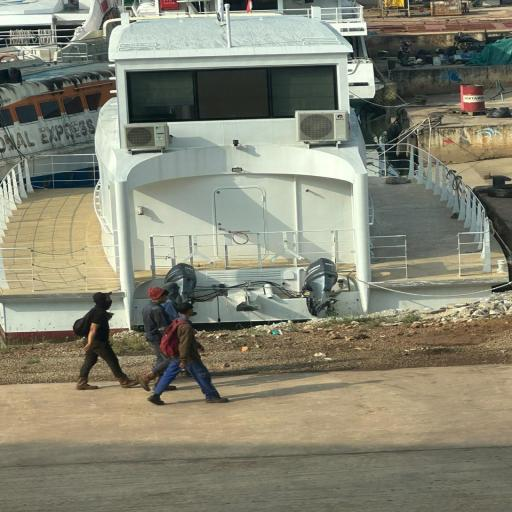safety_shoe: (74, 376, 100, 392), (114, 376, 140, 390), (138, 369, 156, 389), (202, 394, 231, 406), (144, 392, 167, 407)
